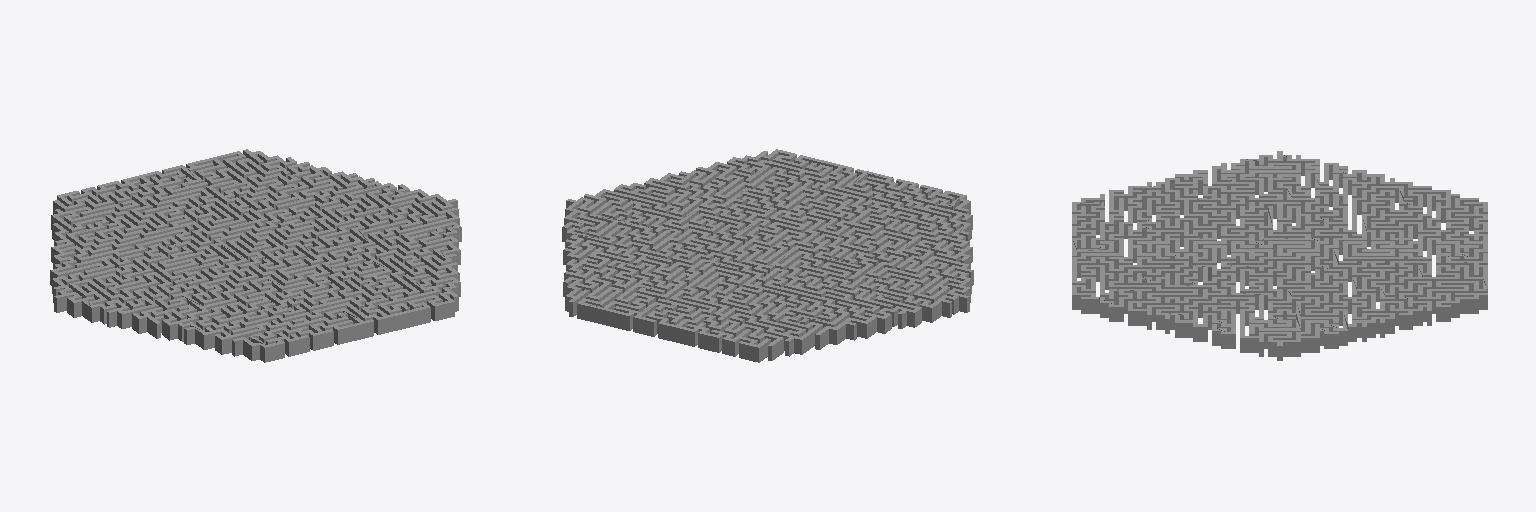
Rendered from labyrinth.obj.
The picture shows the model from 3 angles: view 1: azimuth 30°, elevation 25°; view 2: azimuth 150°, elevation 25°; view 3: azimuth 270°, elevation 25°; orthographic projection.
Parts seen in each view (by area): view 1: Curve.001_Mesh; view 2: Curve.001_Mesh; view 3: Curve.001_Mesh.
Part boxes in pixels (x1,y1,x2,y2): Curve.001_Mesh: (50, 149, 461, 362); Curve.001_Mesh: (562, 149, 973, 362); Curve.001_Mesh: (1072, 151, 1487, 360).
Size of the model in its own units: 55.94 by 2 by 50.28.